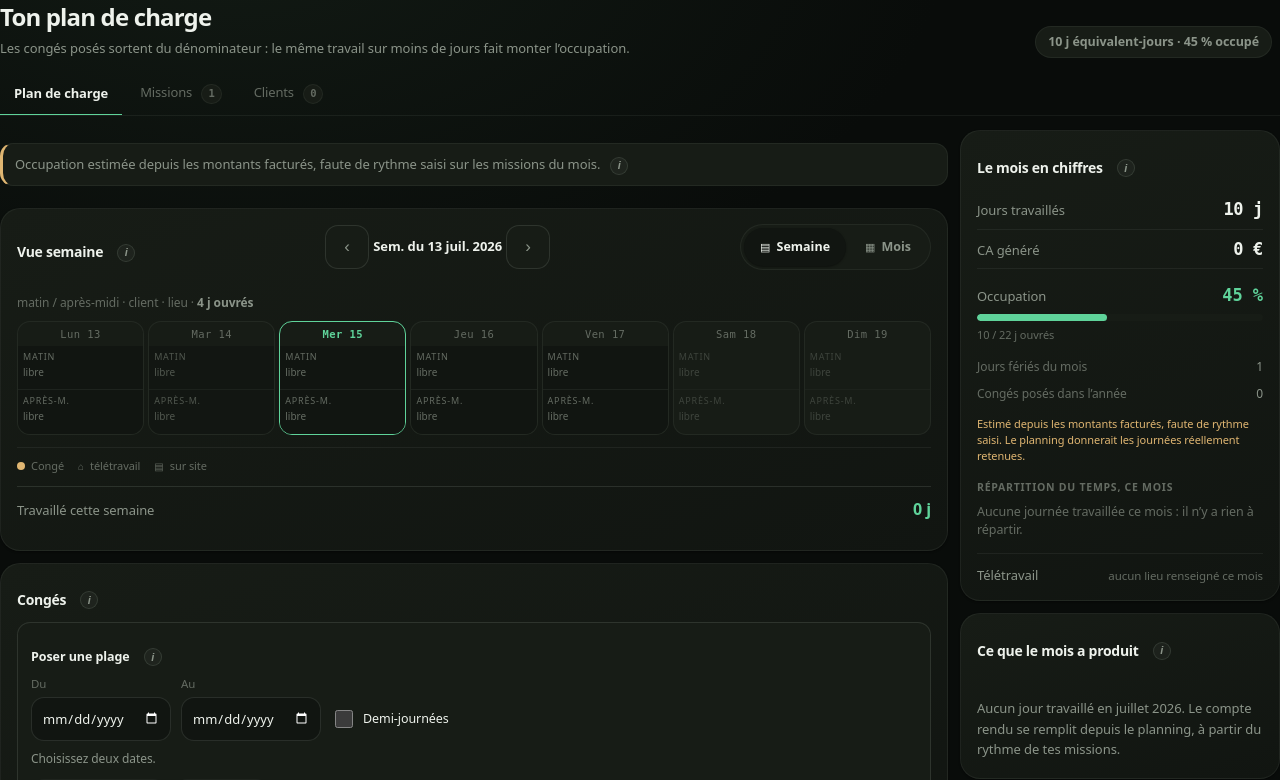
it: congé posé depuis le plan de charge › fait baisser les jours ouvrables et monter l’occupation
The image size is (1280, 780).
Step 1. Click the button "▤Semaine" → (795,247), box [744,228,846,266]
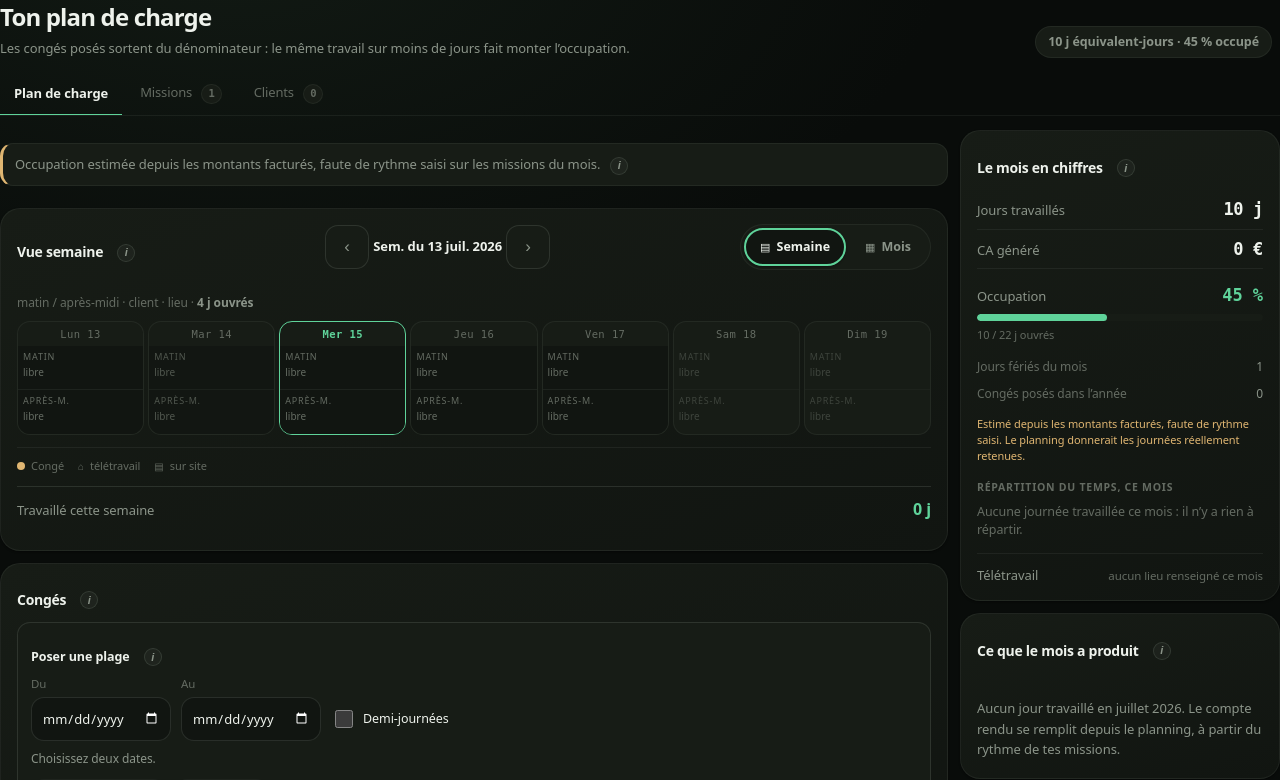
Step 2. Click the button named "13 juil. 2026, matin" → (81,368), box [18,346,143,390]
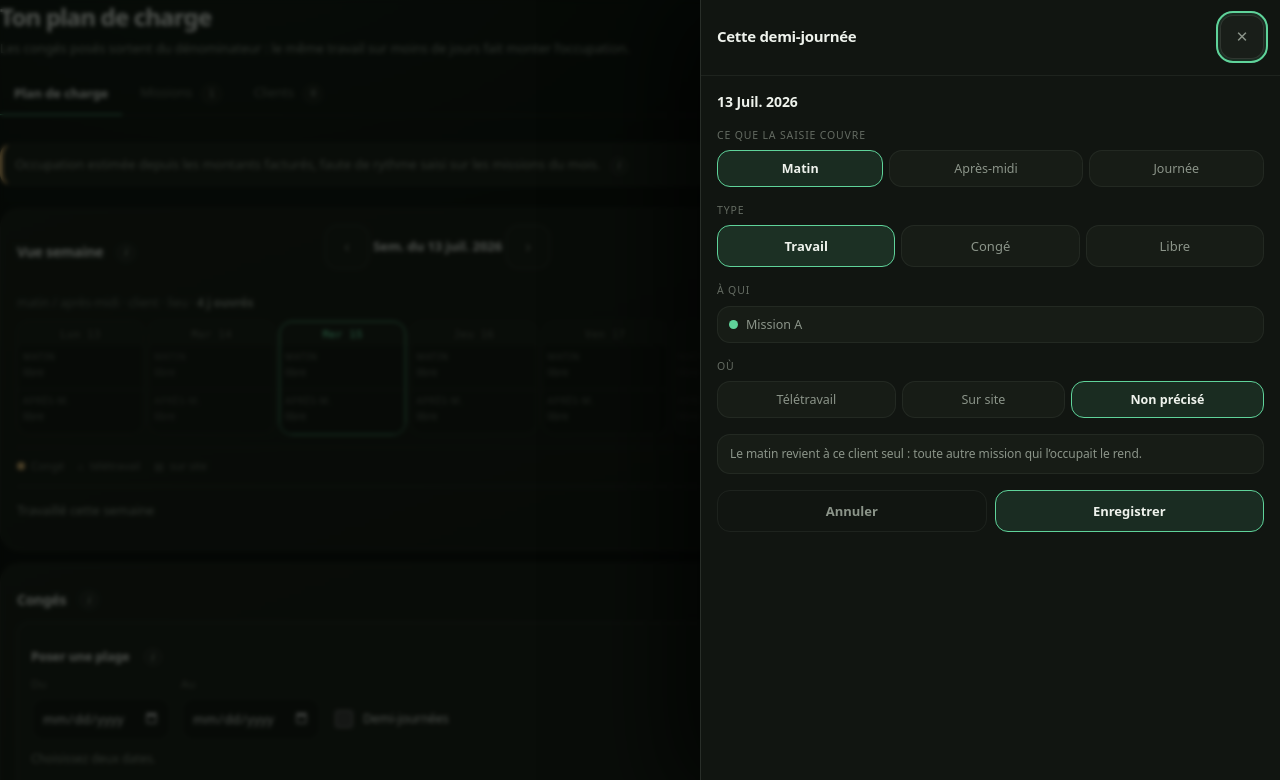
Step 3. Click the button "Journée" → (1176,169), box [1089,150,1264,187]
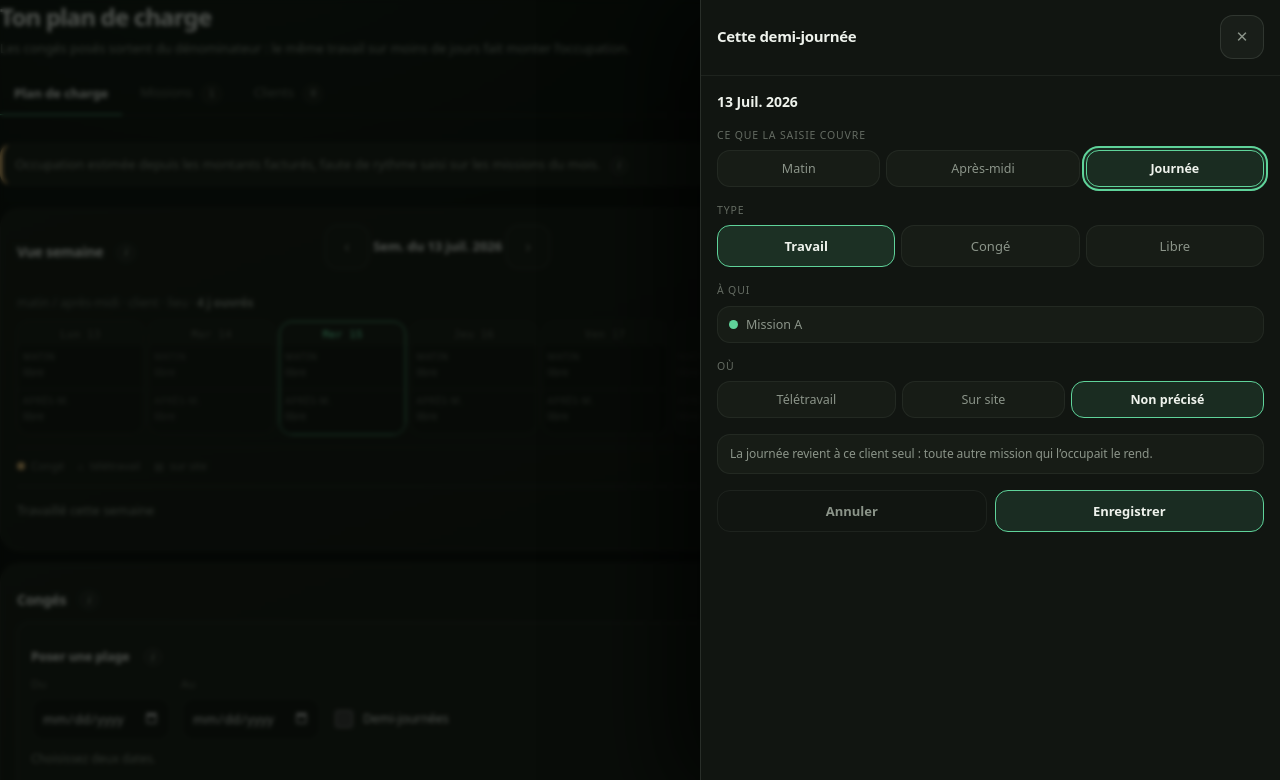
Step 4. Click the button "Congé" → (990,246), box [901,225,1080,267]
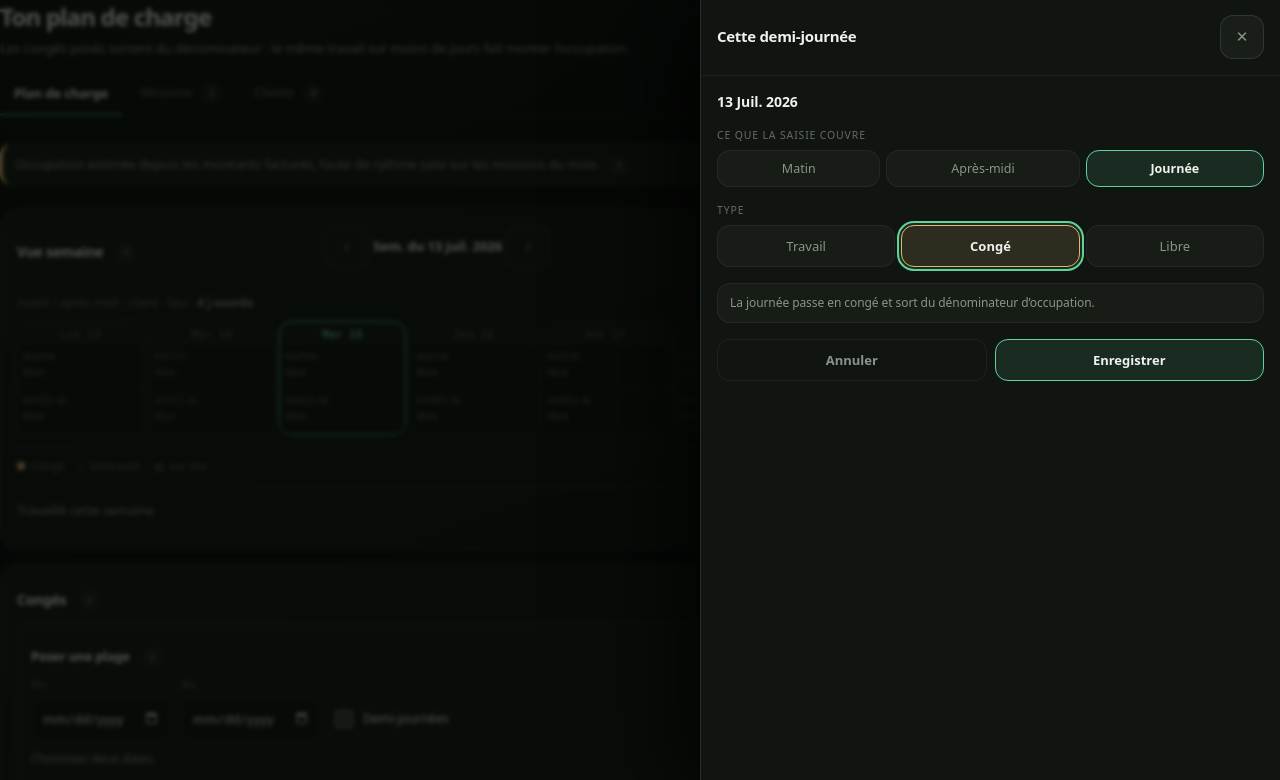
Step 5. Click the button "Enregistrer" → (1129,360), box [994,339,1264,381]
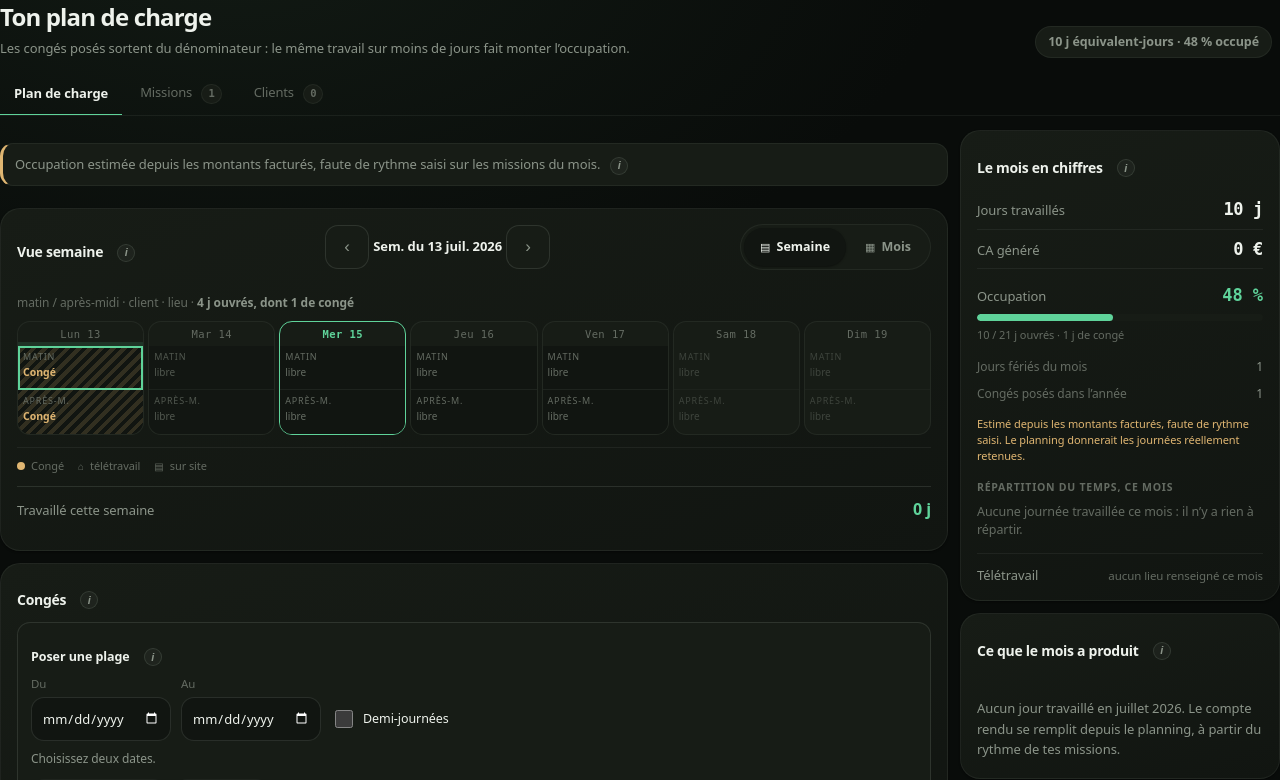
expect the text "10 / 21 j ouvrés · 1 j de congé" is shown: met, box [977,327,1124,342]
